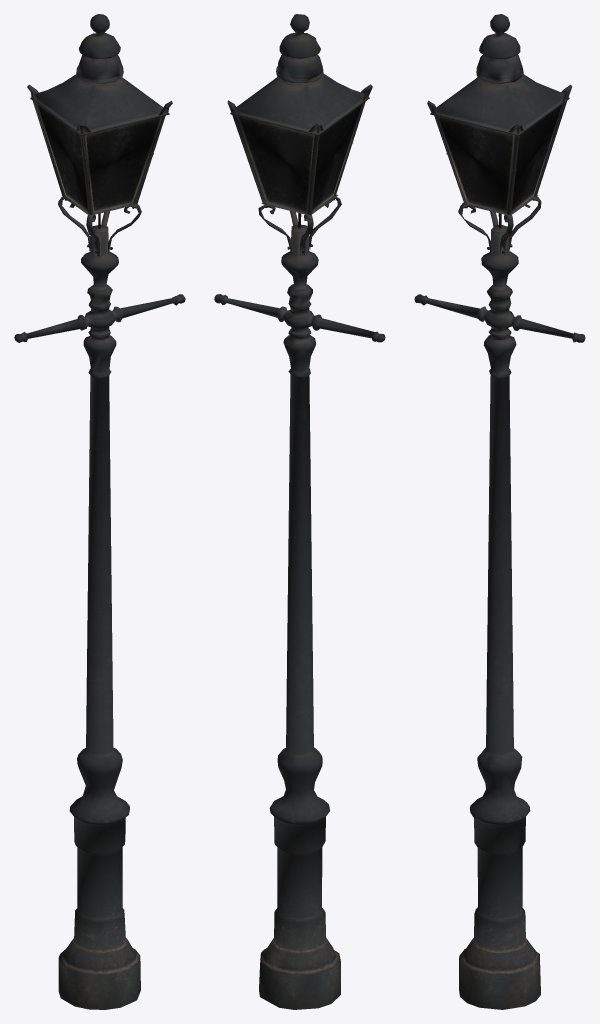
The model's file is street_lamp_01.gltf.
3 renders of one model, left to right at view 1: azimuth 30°, elevation 25°; view 2: azimuth 150°, elevation 25°; view 3: azimuth 330°, elevation 25°, orthographic.
Visible parts, largest first — view 1: street_lamp_01; view 2: street_lamp_01; view 3: street_lamp_01.
Part boxes in pixels (x1=…): street_lamp_01: x1=14, y1=14, x2=185, y2=1009; street_lamp_01: x1=214, y1=14, x2=385, y2=1009; street_lamp_01: x1=414, y1=14, x2=585, y2=1009.
Size of the model in its own units: 0.7022 by 3.87 by 0.3862.
Materials: 3 (3 with a texture image).
